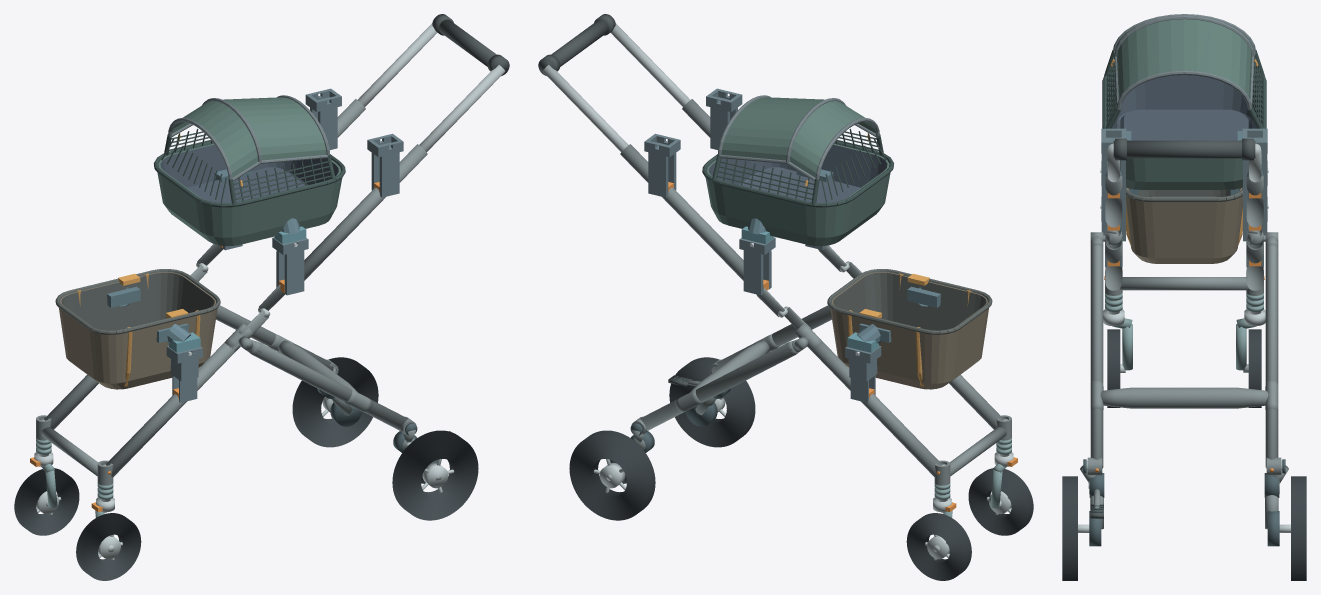
Rendered from D35_w380_state1_wheel_S.glb.
The picture shows the model from 3 angles, left to right: view 1: azimuth 30°, elevation 25°; view 2: azimuth 150°, elevation 25°; view 3: azimuth 270°, elevation 25°; orthographic projection. The views are drawn at different scales.
Visible parts, largest first — view 1: D35_Upper, D35_Lower, RL_tire.009, RR_tire.009, FL_tire.009, FR_tire.009, main_lower_-1, V46_rear_leg_-1.002, main_upper_-1, Universal_Cabin_Receiver_H_-1, Universal_Cabin_Receiver_M_-1, D35_Lower_Mount_L (+10 smaller); view 2: D35_Upper, D35_Lower, RR_tire.009, RL_tire.009, FR_tire.009, FL_tire.009, main_lower_1, V46_rear_leg_1.002, main_upper_1, Universal_Cabin_Receiver_H_1, Universal_Cabin_Receiver_M_1, D35_Lower_Mount_L (+10 smaller); view 3: D35_Upper, D35_Lower, V46_rearbar.002, V46_rear_leg_-1.002, V46_rear_leg_1.002, round_handle.010, front_fixed_round_tube, RL_tire.009, RR_tire.009, Universal_Cabin_Receiver_H_1, Universal_Cabin_Receiver_H_-1, FL_tire.009 (+16 smaller).
Boxes of the visible parts, <box> form: D35_Upper: <box>153,95,345,246</box>; D35_Lower: <box>55,269,220,389</box>; RL_tire.009: <box>392,430,478,520</box>; RR_tire.009: <box>292,357,378,447</box>; FL_tire.009: <box>76,513,141,580</box>; FR_tire.009: <box>14,468,79,535</box>; main_lower_-1: <box>106,342,238,477</box>; V46_rear_leg_-1.002: <box>249,341,407,430</box>; main_upper_-1: <box>304,144,427,280</box>; Universal_Cabin_Receiver_H_-1: <box>367,133,403,197</box>; Universal_Cabin_Receiver_M_-1: <box>272,237,308,295</box>; D35_Lower_Mount_L: <box>107,286,200,355</box>; D35_Upper: <box>702,95,894,246</box>; D35_Lower: <box>827,269,992,389</box>; RR_tire.009: <box>569,430,655,520</box>; RL_tire.009: <box>669,357,755,447</box>; FR_tire.009: <box>906,513,971,580</box>; FL_tire.009: <box>968,468,1033,535</box>; main_lower_1: <box>809,342,941,477</box>; V46_rear_leg_1.002: <box>640,341,798,430</box>; main_upper_1: <box>620,144,743,280</box>; Universal_Cabin_Receiver_H_1: <box>644,133,680,197</box>; Universal_Cabin_Receiver_M_1: <box>739,237,775,295</box>; D35_Lower_Mount_L: <box>847,286,940,355</box>; D35_Upper: <box>1102,14,1266,189</box>; D35_Lower: <box>1126,187,1242,263</box>; V46_rearbar.002: <box>1100,387,1268,408</box>; V46_rear_leg_-1.002: <box>1090,243,1103,468</box>; V46_rear_leg_1.002: <box>1265,243,1278,468</box>; round_handle.010: <box>1113,140,1255,158</box>; front_fixed_round_tube: <box>1120,277,1248,290</box>; RL_tire.009: <box>1062,476,1077,580</box>; RR_tire.009: <box>1291,476,1306,580</box>; Universal_Cabin_Receiver_H_1: <box>1242,128,1267,198</box>; Universal_Cabin_Receiver_H_-1: <box>1101,128,1126,198</box>; FL_tire.009: <box>1107,329,1120,407</box>.
Bounding box in the file's own units: 1.09 × 1.02 × 0.4671.
